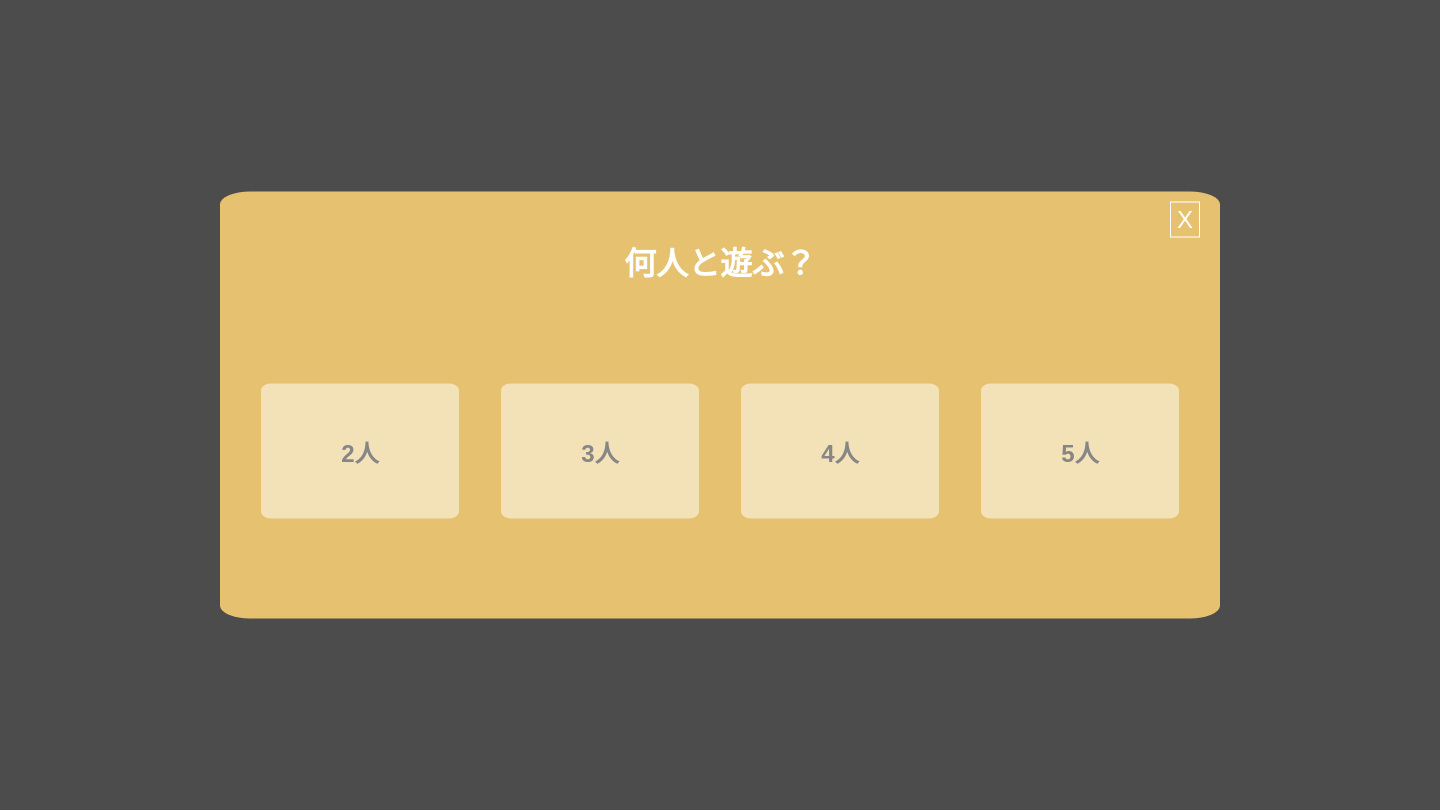
it: create-popupコンポーネントのテスト › 人数選択ボタンが押されたとき、APIリクエストが失敗したときエラー表示されるか
Click the button "2人": (360, 451) [261,384,459,518]
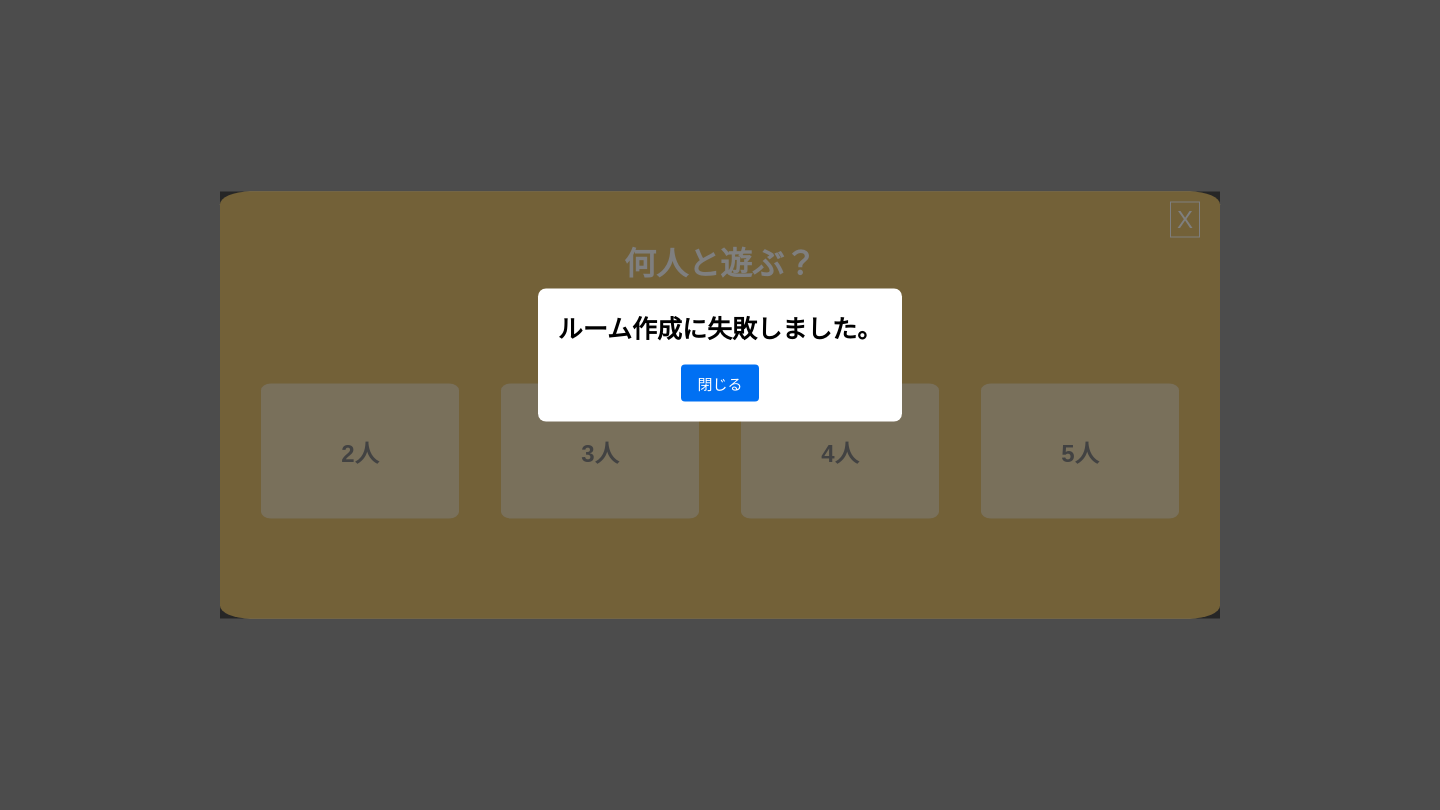
expect the text "ルーム作成に失敗しました。" is shown: met, box [558,316,882,342]
